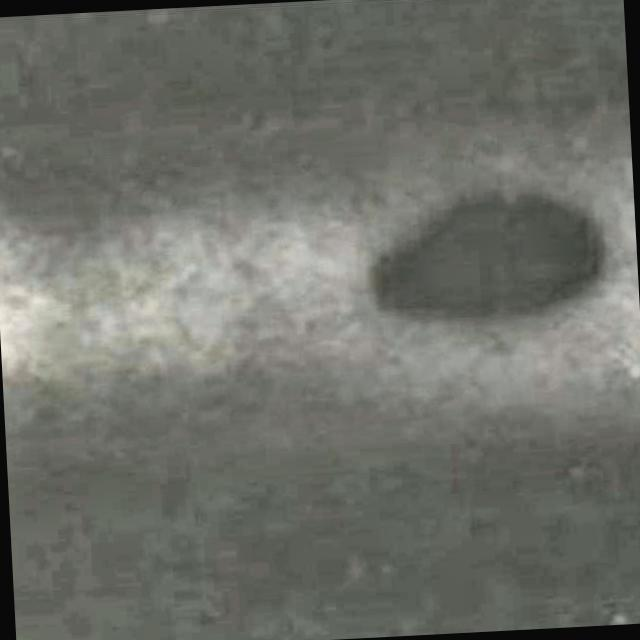Slag: (358, 158, 624, 340)
